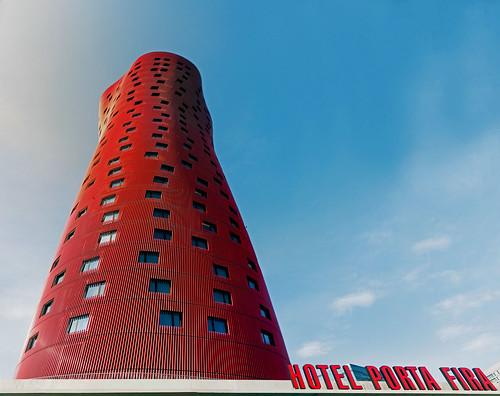building: (10, 47, 298, 381)
